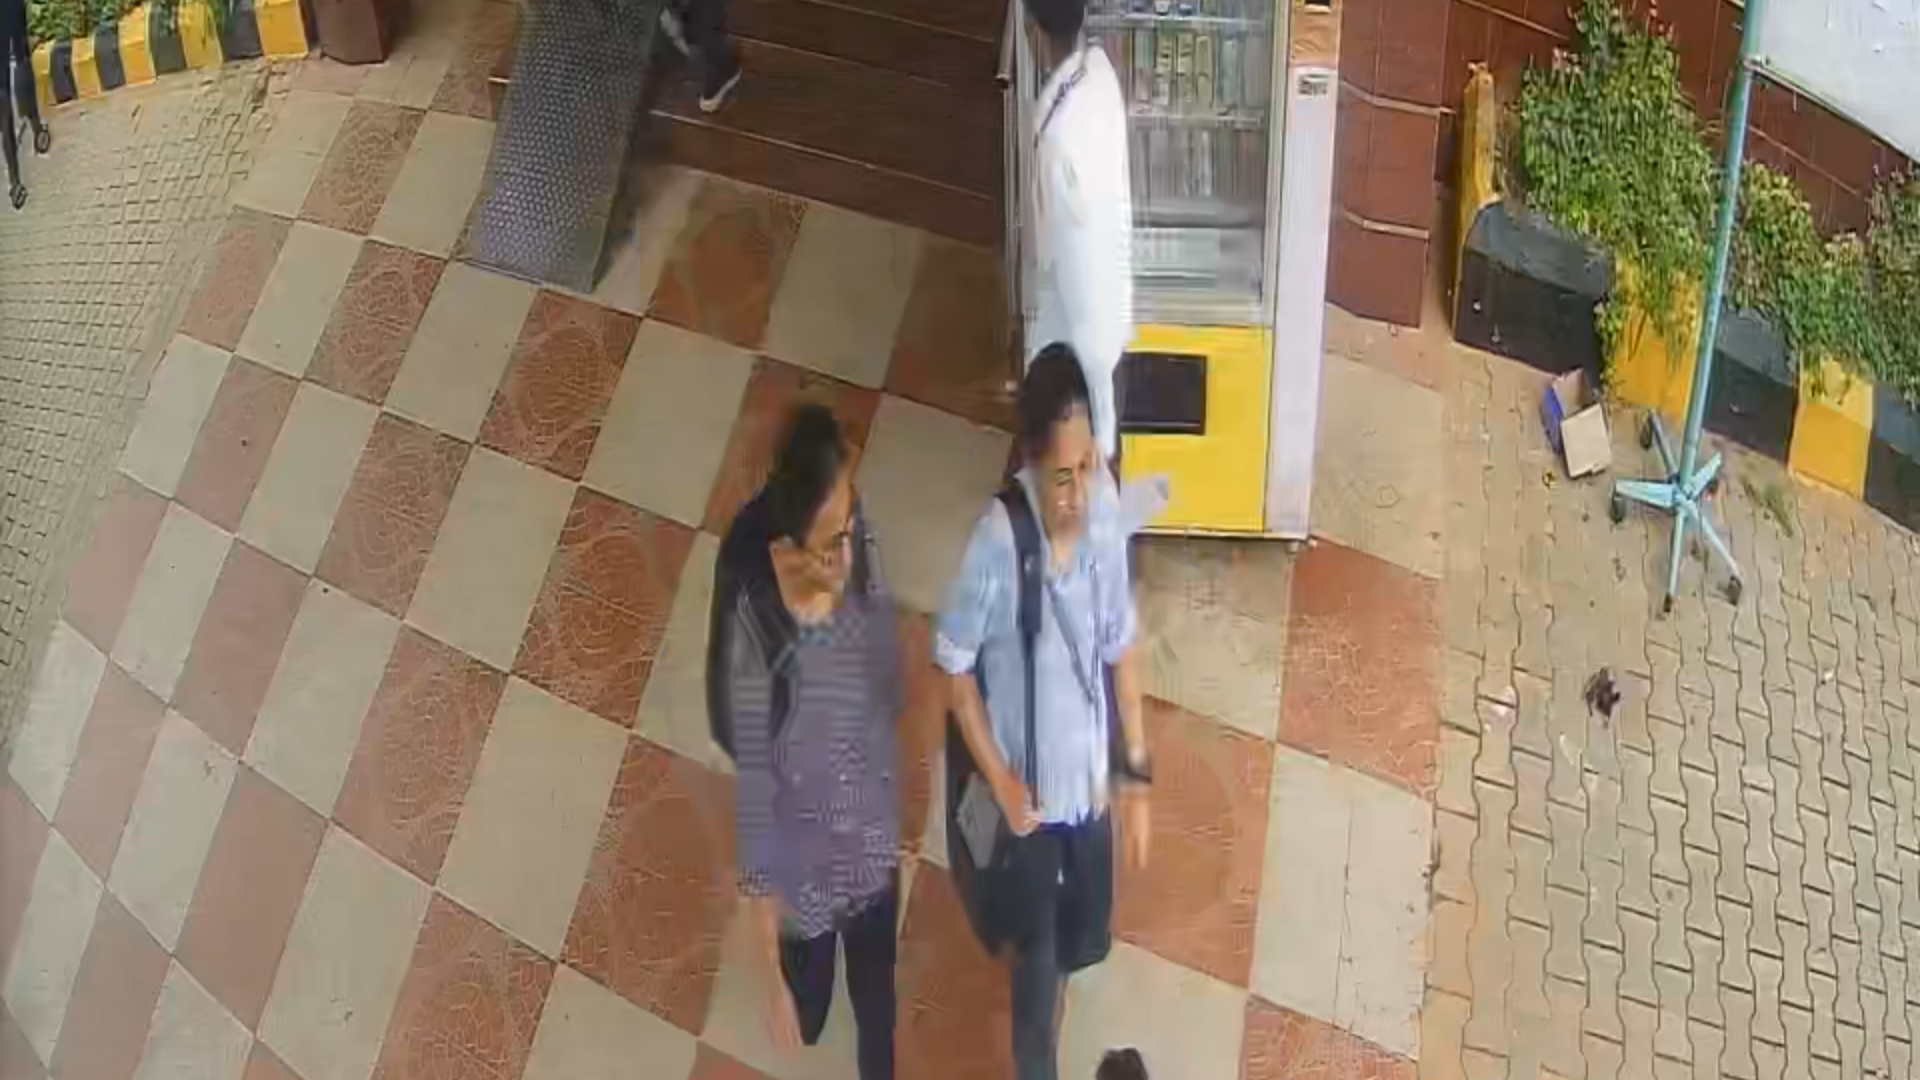intruder: (942, 345, 1147, 1079), (708, 396, 916, 1077)
